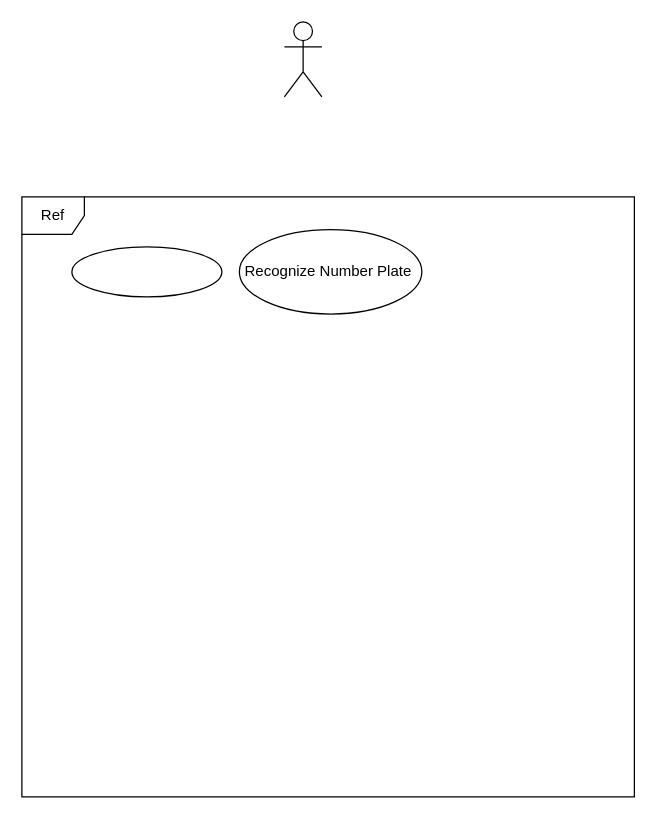
The diagram is 656 pixels wide and 819 high, and some of its shapes have lost their labels. The box of each missing label's shape, as (x1, y1, x2, y2) in pixels:
Programm Actor: (283, 21, 322, 97)
Recognize Auto: (71, 246, 222, 297)
